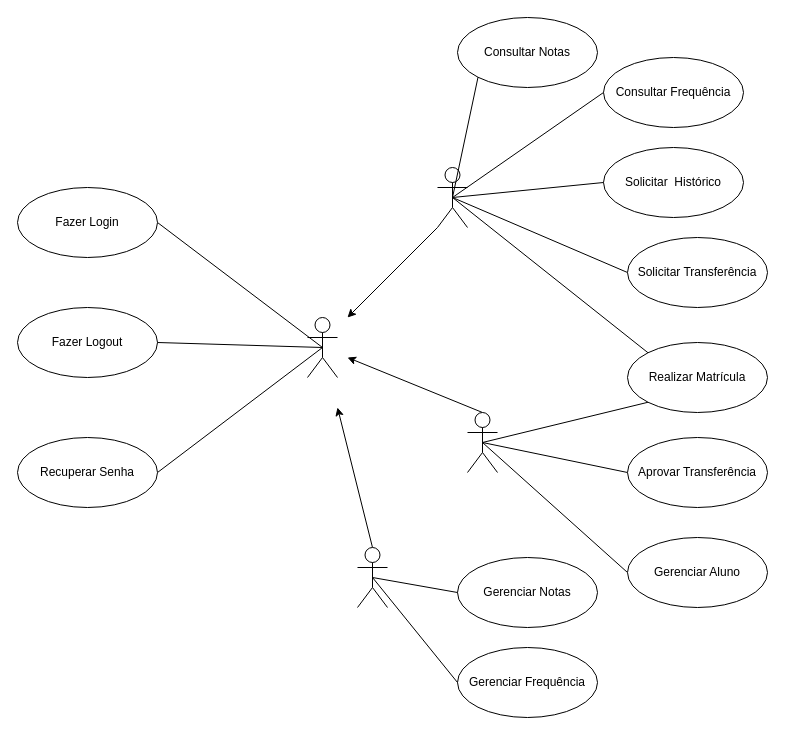
Image size: 785x735. Some labels were removed from this diagram. Here are the shapes that lost their labels. From the top down, the box of each, then its label:
(436, 166, 468, 228): Aluno
(306, 316, 338, 378): Usuário
(466, 412, 498, 472): Secretaria
(356, 546, 388, 608): Professor
